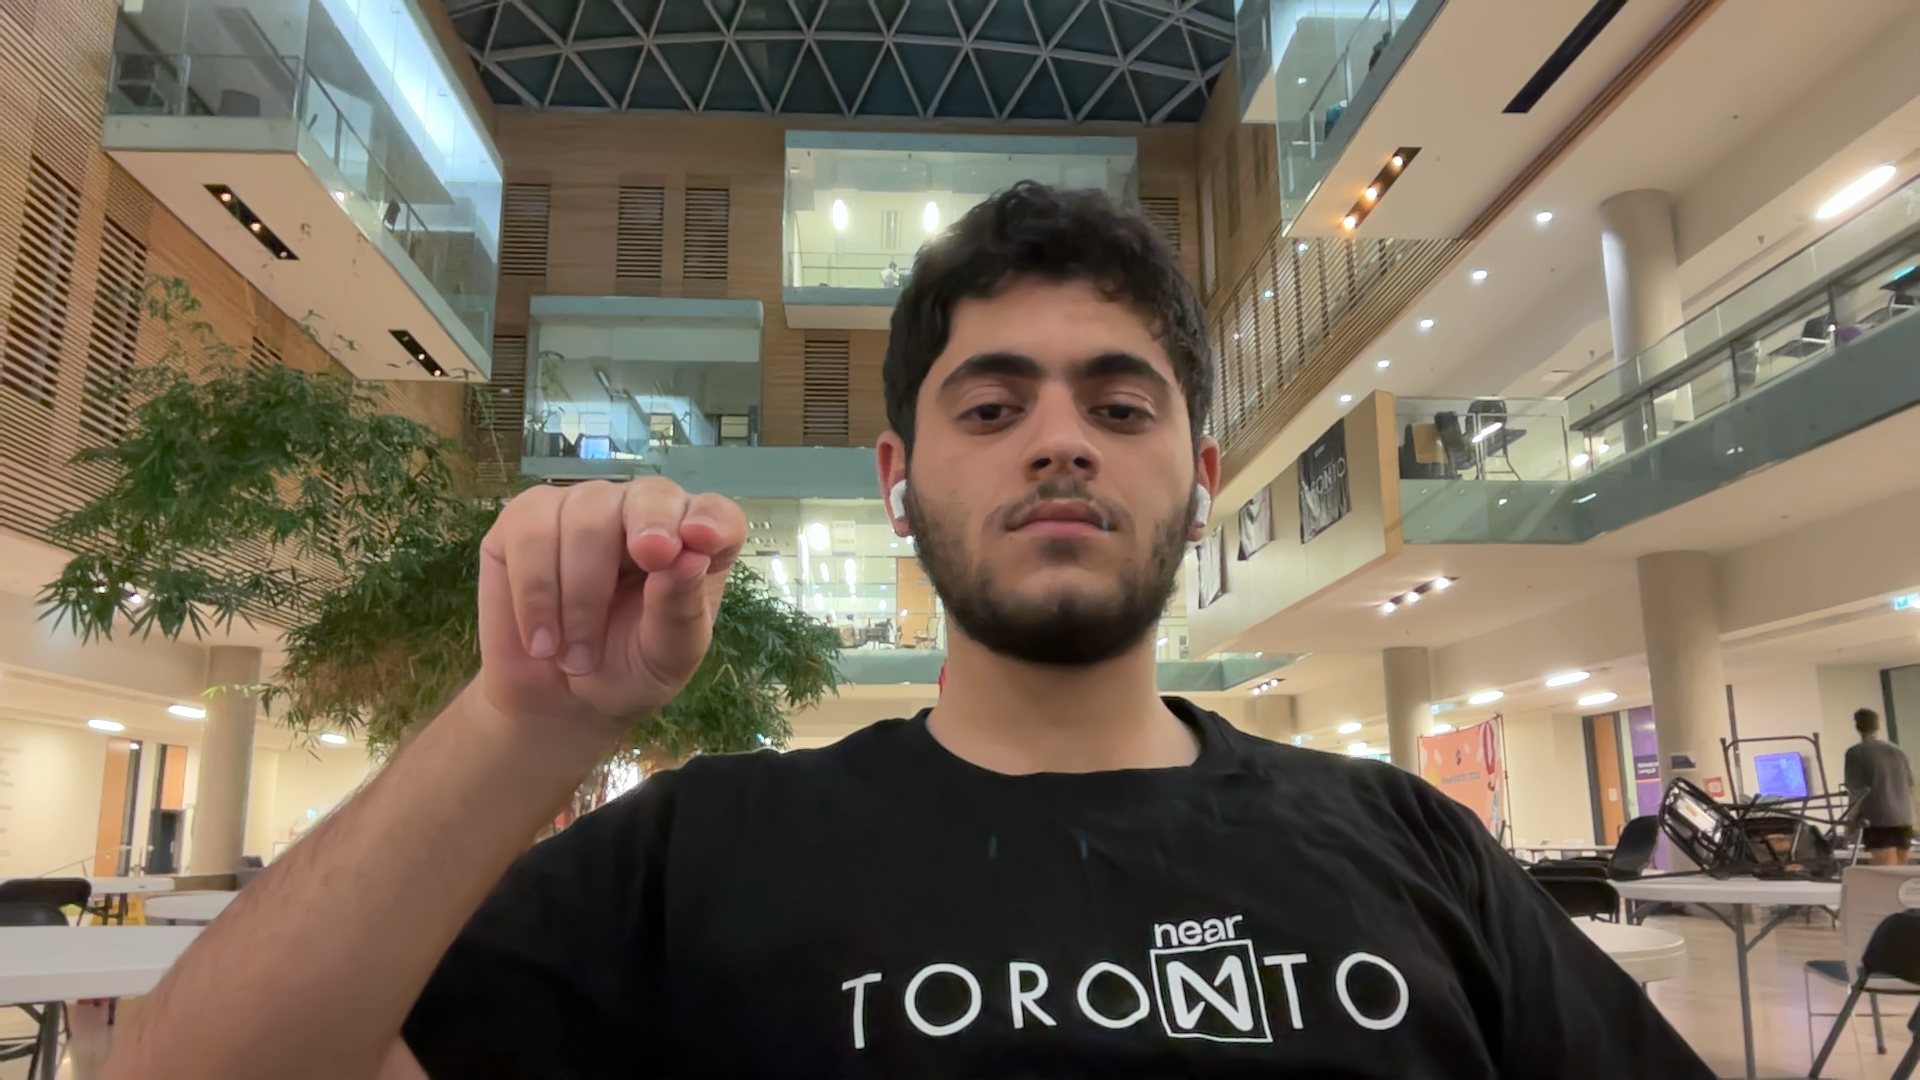no: (429, 407, 789, 758)
